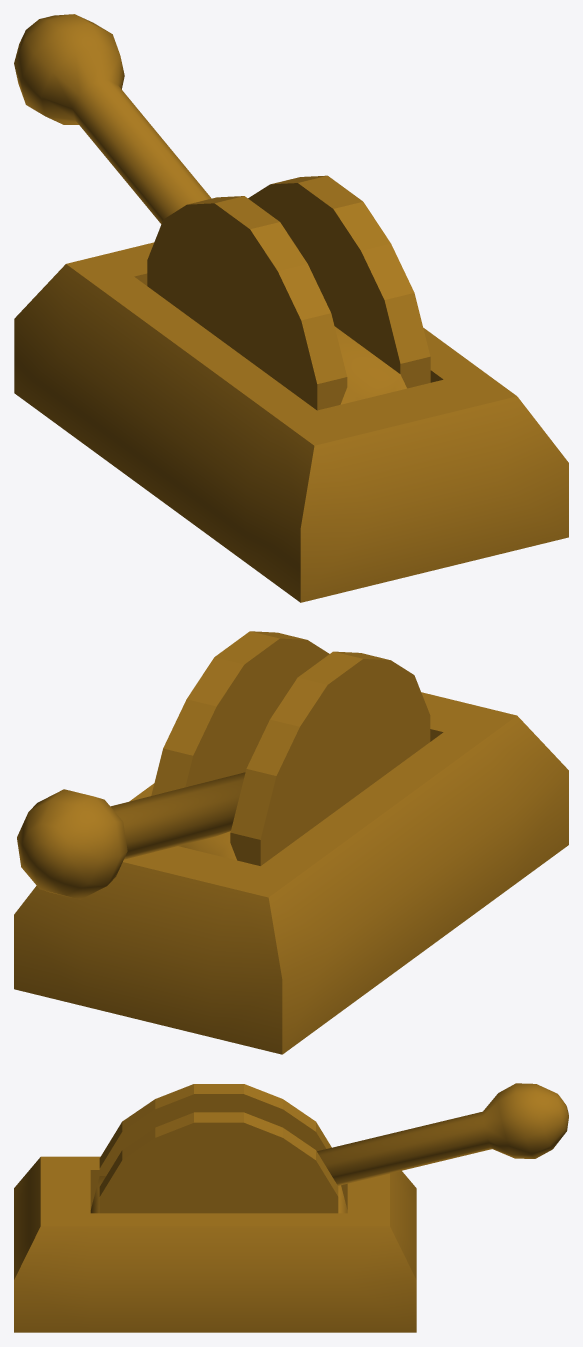
File: dzwignia.fbx
The picture shows the model from 3 angles, top to bottom: view 1: azimuth 30°, elevation 25°; view 2: azimuth 150°, elevation 25°; view 3: azimuth 270°, elevation 25°; orthographic projection. The views are drawn at different scales.
Parts seen in each view (by area): view 1: Box022, Cylinder003; view 2: Box022, Cylinder003; view 3: Box022, Cylinder003.
Boxes of the visible parts, x1,y1,x2,y2 form: Box022: (14, 175, 568, 602); Cylinder003: (14, 14, 211, 224); Box022: (14, 631, 568, 1054); Cylinder003: (17, 772, 245, 899); Box022: (14, 1084, 416, 1332); Cylinder003: (317, 1083, 568, 1185).
Bounding box in the file's own units: 11.12 × 11.14 × 28.35.
